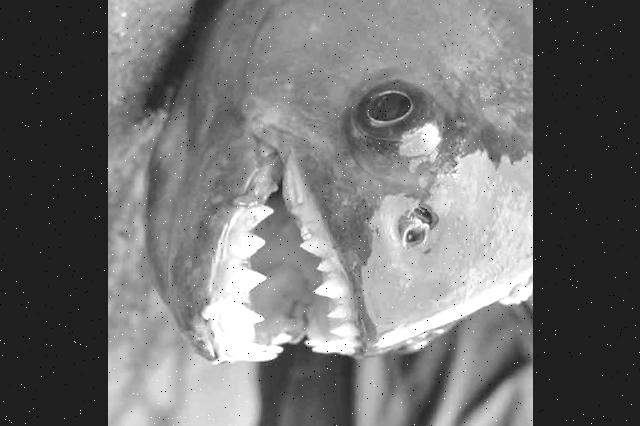Mulut: (144, 107, 400, 387)
